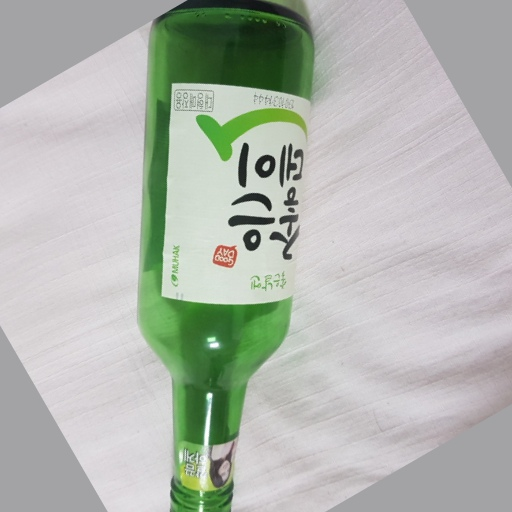Glass_0: (140, 3, 306, 512)
